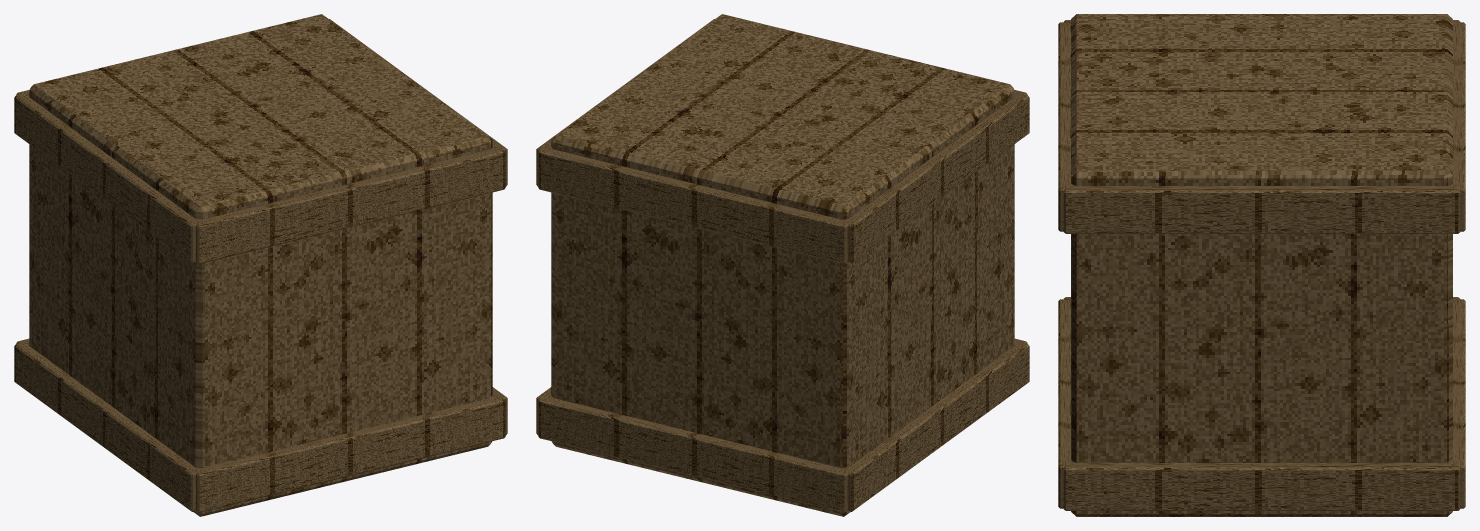
Rendered from crate.glb.
3 views of the same model, side by side, from view 1: azimuth 30°, elevation 25°; view 2: azimuth 150°, elevation 25°; view 3: azimuth 270°, elevation 25° (orthographic). The views are drawn at different scales.
Parts seen in each view (by area): view 1: Crate, Crate_brace.002, Crate_brace, Crate_brace_side.002, Crate_brace_side; view 2: Crate, Crate_brace.003, Crate_brace.001, Crate_brace_side.002, Crate_brace_side; view 3: Crate, Crate_brace_side.001, Crate_brace_side.003, Crate_brace, Crate_brace.001, Crate_brace.002, Crate_brace.003.
Part boxes in pixels (box(x1,y1,x2,y2)): Crate: box(29, 14, 492, 516); Crate_brace.002: box(193, 147, 505, 263); Crate_brace: box(193, 396, 505, 512); Crate_brace_side.002: box(14, 93, 200, 263); Crate_brace_side: box(14, 342, 198, 511); Crate: box(551, 14, 1014, 516); Crate_brace.003: box(538, 146, 850, 263); Crate_brace.001: box(538, 396, 850, 512); Crate_brace_side.002: box(845, 93, 1029, 263); Crate_brace_side: box(845, 342, 1029, 511); Crate: box(1071, 14, 1452, 516); Crate_brace_side.001: box(1063, 462, 1460, 510); Crate_brace_side.003: box(1063, 185, 1460, 233); Crate_brace: box(1058, 299, 1072, 508); Crate_brace.001: box(1451, 299, 1465, 508); Crate_brace.002: box(1058, 22, 1072, 231); Crate_brace.003: box(1451, 22, 1465, 231).
Size of the model in its own units: 0.853 by 0.8 by 0.853.
1 material, 1 textured.
